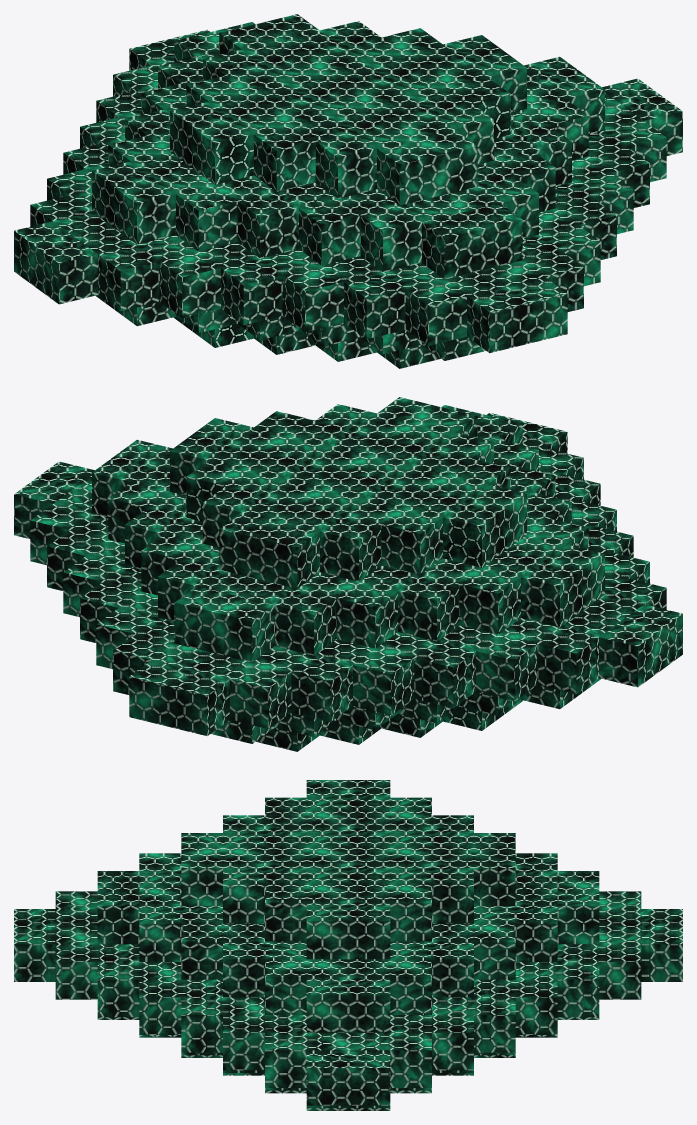
The model's file is Exhibit_Mushroom_Top_Art.fbx.
3 renders of one model, top to bottom at view 1: azimuth 30°, elevation 25°; view 2: azimuth 150°, elevation 25°; view 3: azimuth 270°, elevation 25°, orthographic. The views are drawn at different scales.
Visible parts, largest first — view 1: Mushroom_Top; view 2: Mushroom_Top; view 3: Mushroom_Top.
Part boxes in pixels (x1=…): Mushroom_Top: x1=14, y1=14, x2=682, y2=368; Mushroom_Top: x1=14, y1=397, x2=682, y2=751; Mushroom_Top: x1=14, y1=780, x2=682, y2=1110.
Size of what is drawn, in the model's own units: 2128 by 665 by 2128.
1 material, 1 textured.
